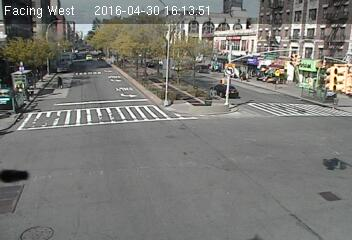neg: (187, 134, 235, 198), (292, 112, 317, 146), (290, 54, 314, 85), (217, 58, 240, 90), (10, 154, 33, 186), (64, 134, 87, 165), (151, 144, 173, 175), (119, 54, 139, 80), (325, 152, 344, 178), (165, 75, 178, 93)
pos: (53, 75, 65, 90)
